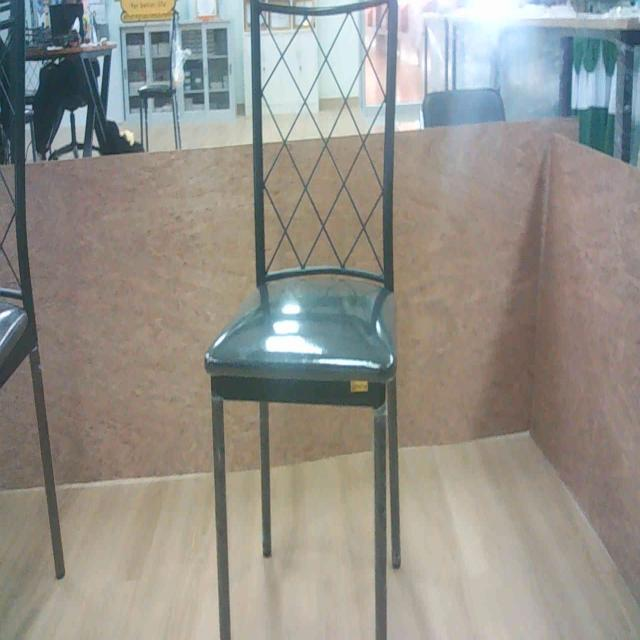emtpy: (211, 2, 400, 640)
